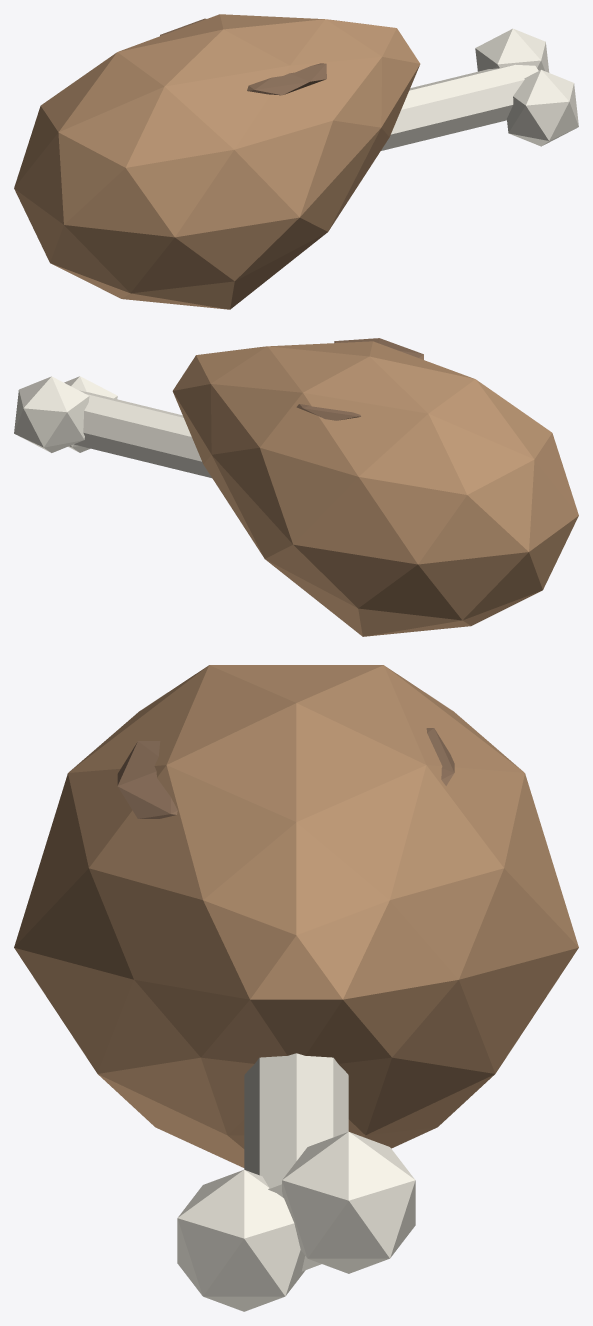
The model's file is MeatCooked_gen.glb.
3 views of the same model, one above another, from view 1: azimuth 30°, elevation 25°; view 2: azimuth 150°, elevation 25°; view 3: azimuth 270°, elevation 25° (orthographic). The views are drawn at different scales.
Visible parts, largest first — view 1: cooked_body; view 2: cooked_body; view 3: cooked_body.
Boxes of the visible parts, x1=… form: cooked_body: x1=14, y1=14, x2=578, y2=309; cooked_body: x1=14, y1=338, x2=578, y2=636; cooked_body: x1=14, y1=665, x2=578, y2=1311.
Bounding box in the file's own units: 1.06 × 0.516 × 0.54.
